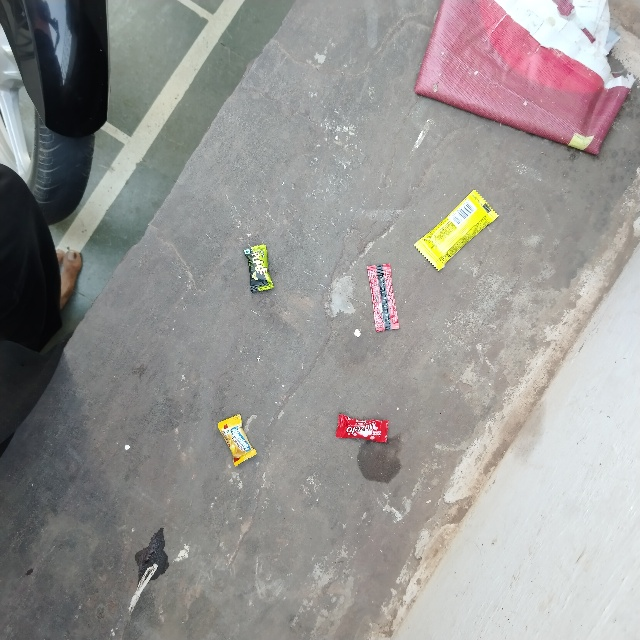Alpenlibe Creamfills: (210, 422, 247, 476)
Mazelo: (335, 411, 390, 446)
Nescafe Coffee: (367, 262, 403, 332)
Orbit: (475, 186, 514, 275)
Pulse: (244, 244, 276, 297)
